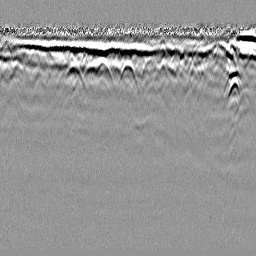cavity: (116, 60, 140, 93)
